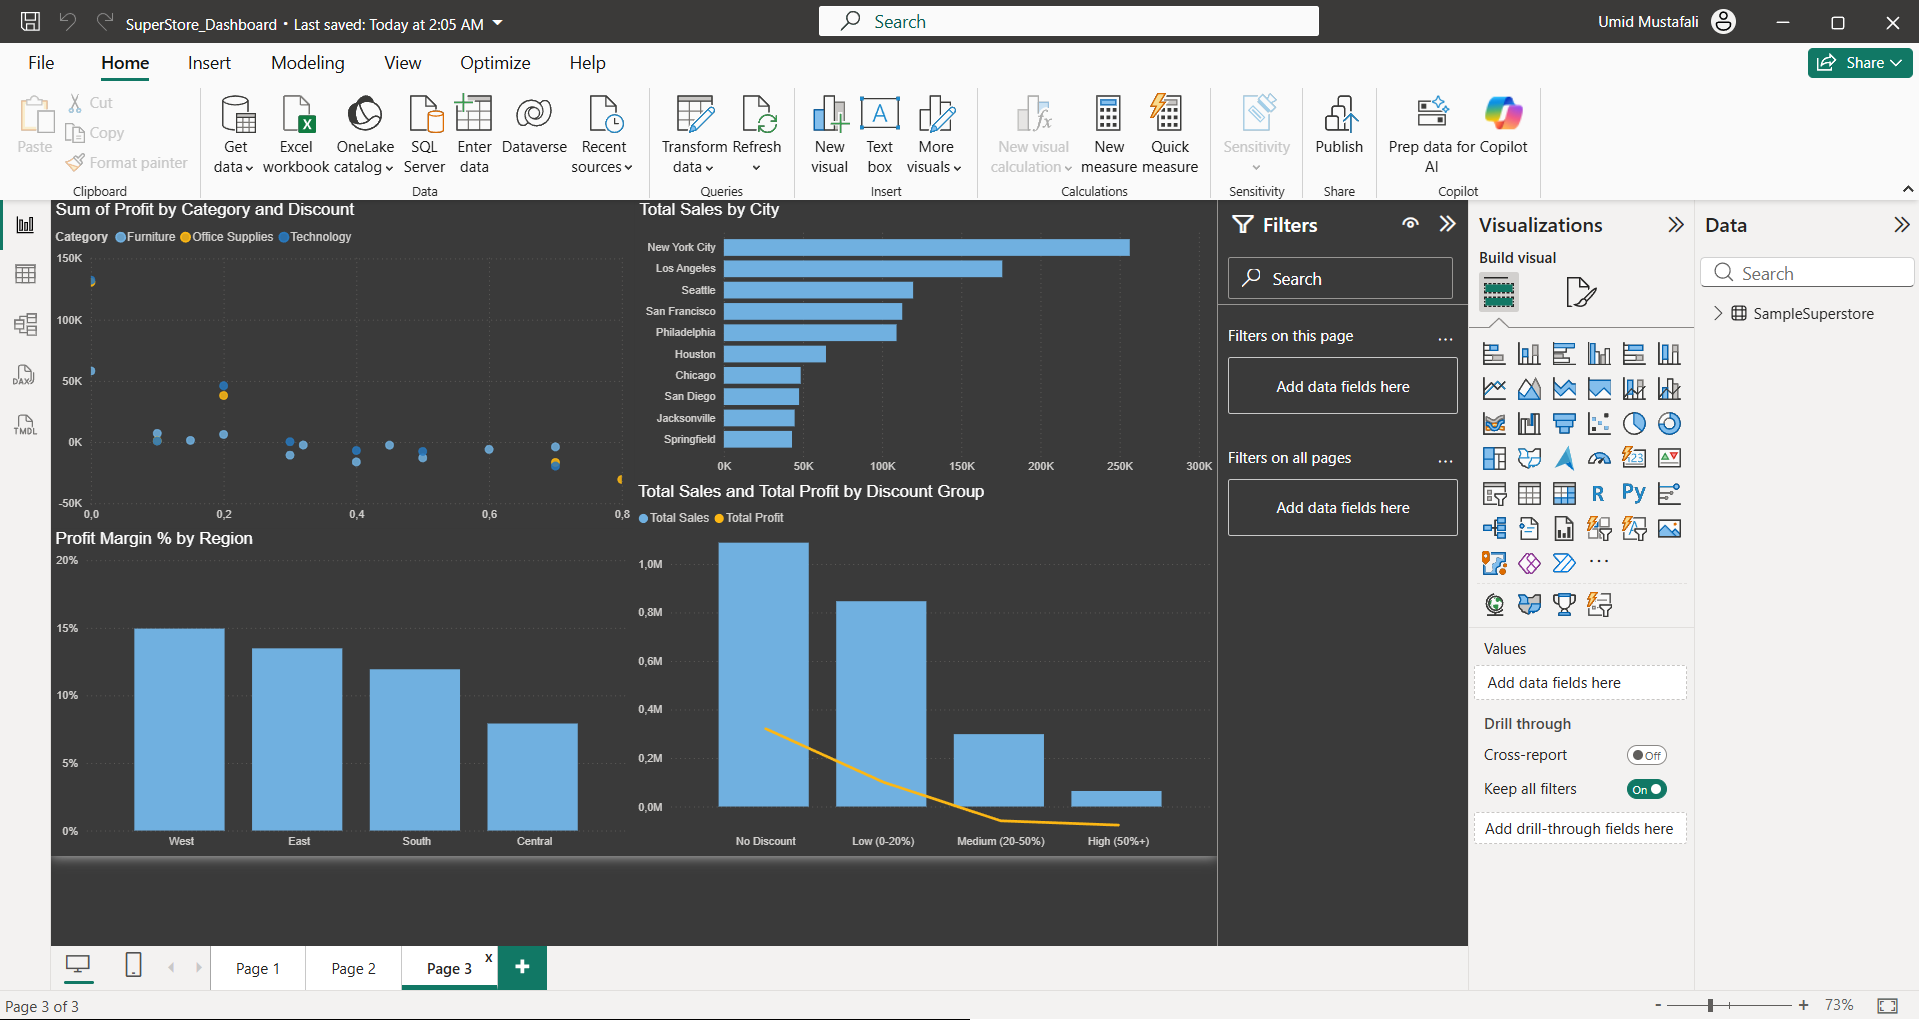

The page's visual inventory and layout, read from the dashboard file:
{"tool":"powerbi","page":{"name":"Page 3","canvas":[1280,720],"ordinal":2},"visuals":[{"type":"clusteredColumnChart","fields":{"Category":["SampleSuperstore.Region"],"Y":["SampleSuperstore.Profit Margin %"]},"box":[0,360.9,639.5,359.5],"z":0},{"type":"scatterChart","fields":{"X":["SampleSuperstore.Discount"],"Y":["Sum(SampleSuperstore.Profit)"],"Series":["SampleSuperstore.Category"]},"box":[0,0,640.8,360.9],"z":1},{"type":"lineClusteredColumnComboChart","fields":{"Category":["SampleSuperstore.Discount Group"],"Y":["SampleSuperstore.Total Sales"],"Y2":["SampleSuperstore.Total Profit"]},"box":[639.5,308.7,640.8,411.7],"z":2},{"type":"clusteredBarChart","fields":{"Category":["SampleSuperstore.City"],"Y":["SampleSuperstore.Total Sales"]},"box":[640.8,0,639.5,308.7],"z":3}]}

Visuals, with their boxes on the page's 1280x720 design canvas (x1, y1, x2, y2). These are canvas units, not pixel positions in the 1919x1020 screenshot, which may show the page scaled, cropped or inside an application window:
clusteredColumnChart - SampleSuperstore.Region x SampleSuperstore.Profit Margin %: (0,361,640,720)
scatterChart - SampleSuperstore.Discount x Sum(SampleSuperstore.Profit): (0,0,641,361)
lineClusteredColumnComboChart - SampleSuperstore.Discount Group x SampleSuperstore.Total Sales: (640,309,1280,720)
clusteredBarChart - SampleSuperstore.City x SampleSuperstore.Total Sales: (641,0,1280,309)
